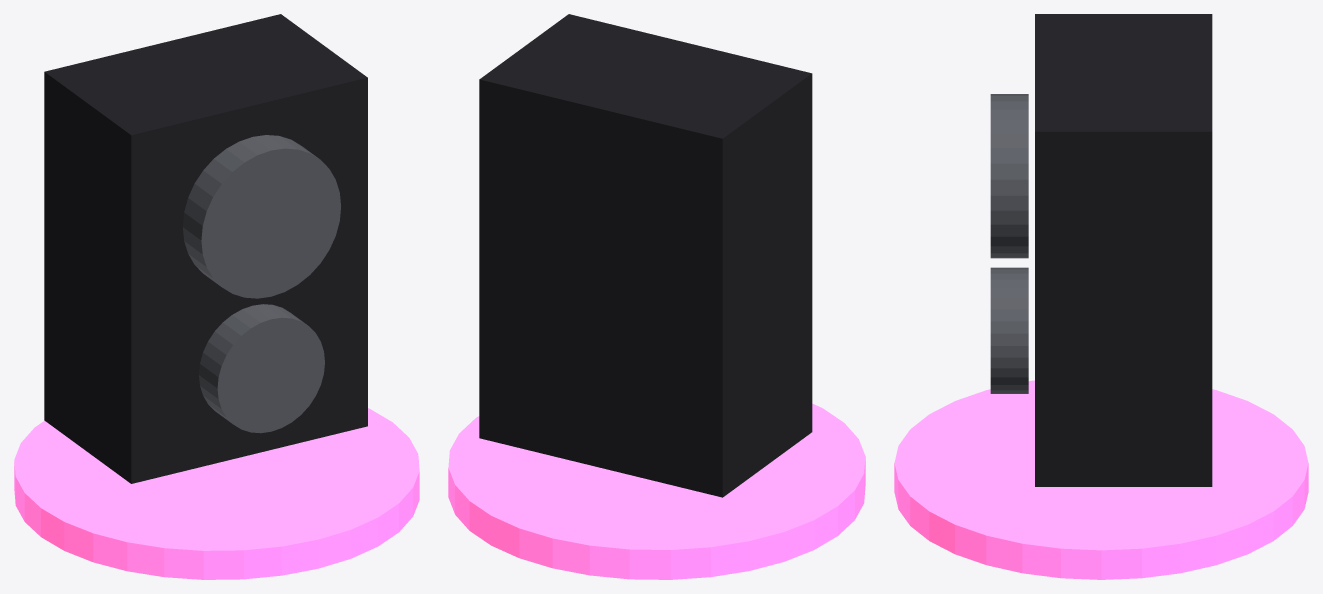
The model's file is music_speaker.glb.
The picture shows the model from 3 angles, left to right: view 1: azimuth 30°, elevation 25°; view 2: azimuth 150°, elevation 25°; view 3: azimuth 270°, elevation 25°; orthographic projection. The views are drawn at different scales.
Visible parts, largest first — view 1: 07_03_Popular_Music_Speaker_part_01, 07_03_Popular_Music_Speaker_ROOT_base, 07_03_Popular_Music_Speaker_part_02, 07_03_Popular_Music_Speaker_part_03; view 2: 07_03_Popular_Music_Speaker_part_01, 07_03_Popular_Music_Speaker_ROOT_base; view 3: 07_03_Popular_Music_Speaker_part_01, 07_03_Popular_Music_Speaker_ROOT_base, 07_03_Popular_Music_Speaker_part_02, 07_03_Popular_Music_Speaker_part_03.
Part boxes in pixels (x1,y1,x2,y2): 07_03_Popular_Music_Speaker_part_01: (44,14,367,483); 07_03_Popular_Music_Speaker_ROOT_base: (14,408,419,579); 07_03_Popular_Music_Speaker_part_02: (183,135,340,298); 07_03_Popular_Music_Speaker_part_03: (199,304,324,433); 07_03_Popular_Music_Speaker_part_01: (479,14,812,497); 07_03_Popular_Music_Speaker_ROOT_base: (448,403,865,579); 07_03_Popular_Music_Speaker_part_01: (1035,14,1212,486); 07_03_Popular_Music_Speaker_ROOT_base: (894,380,1308,579); 07_03_Popular_Music_Speaker_part_02: (990,94,1028,258); 07_03_Popular_Music_Speaker_part_03: (990,267,1028,393).
Bounding box in the file's own units: 0.76 × 0.85 × 0.76.
